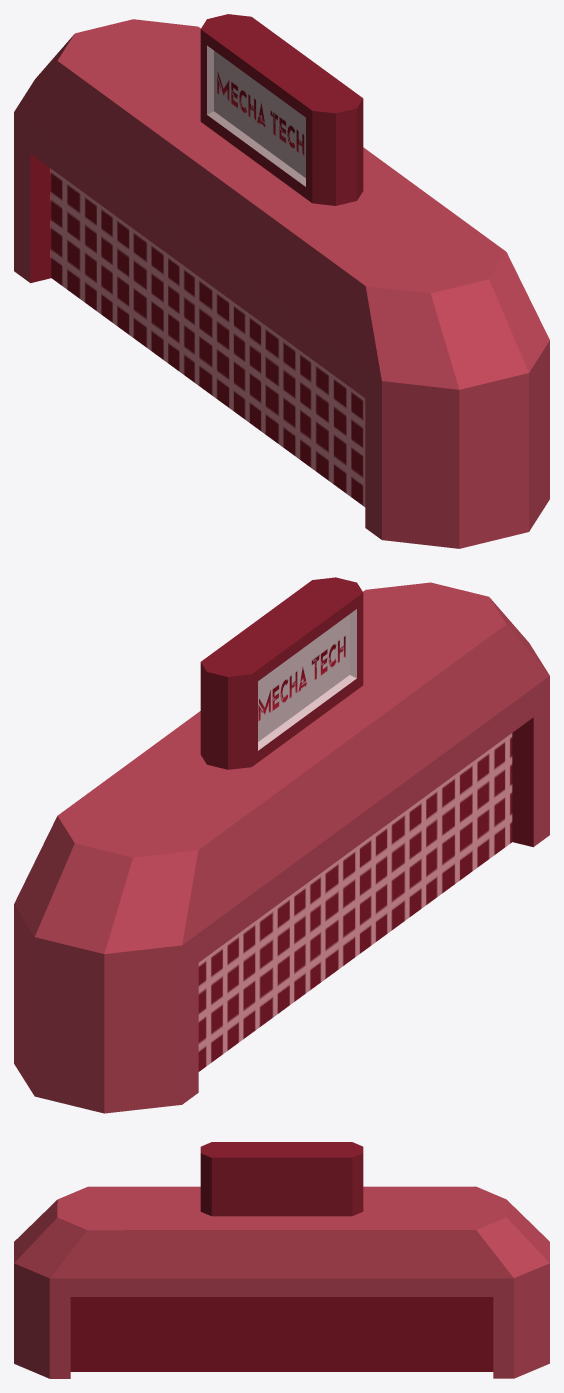
The model's file is CPUBase.fbx.
The picture shows the model from 3 angles, top to bottom: view 1: azimuth 30°, elevation 25°; view 2: azimuth 150°, elevation 25°; view 3: azimuth 270°, elevation 25°; orthographic projection. The views are drawn at different scales.
Visible parts, largest first — view 1: CPUBase; view 2: CPUBase; view 3: CPUBase.
Boxes of the visible parts, left/top/right/bottom form: CPUBase: left=14, top=14, right=549, bottom=548; CPUBase: left=14, top=577, right=549, bottom=1113; CPUBase: left=14, top=1142, right=549, bottom=1378.
Size of the model in its own units: 257 by 468 by 1120.
1 material, 1 textured.
